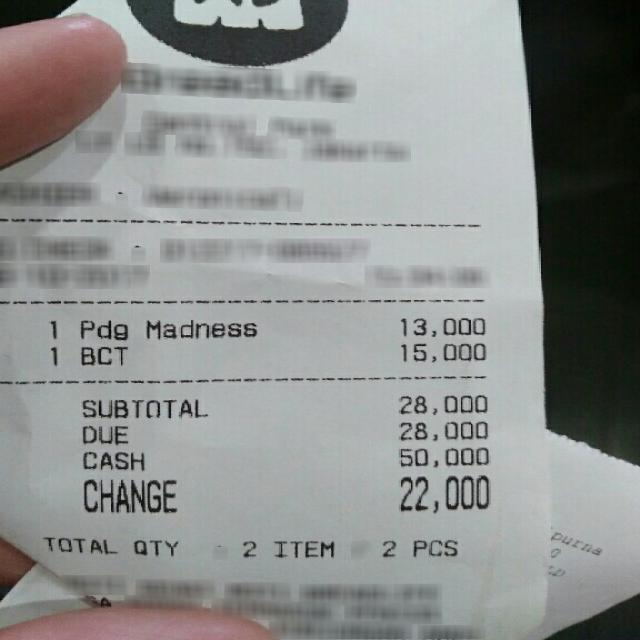kertas: (2, 0, 548, 640)
